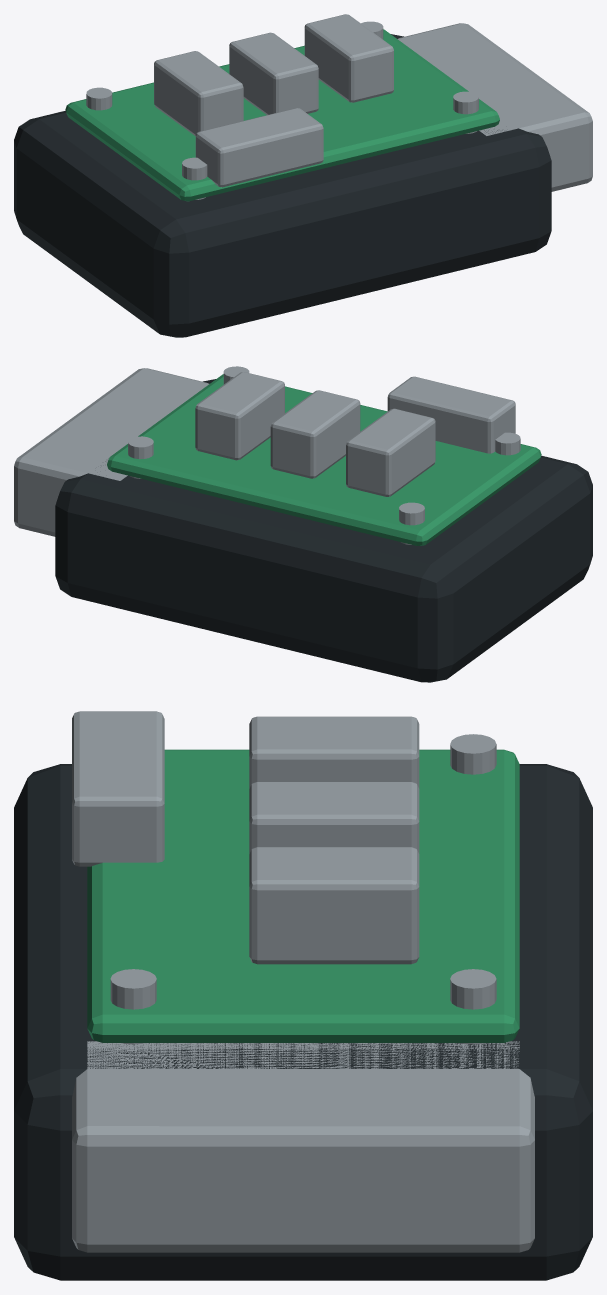
File: RaspberryPi_Blockout.fbx
The picture shows the model from 3 angles, top to bottom: view 1: azimuth 30°, elevation 25°; view 2: azimuth 150°, elevation 25°; view 3: azimuth 270°, elevation 25°; orthographic projection. The views are drawn at different scales.
Visible parts, largest first — view 1: RaspberryPi_Enclosure, RaspberryPi_Board, RaspberryPi, RaspberryPi_IO_Block, RaspberryPi_RibbonConnector; view 2: RaspberryPi_Enclosure, RaspberryPi_Board, RaspberryPi, RaspberryPi_IO_Block, RaspberryPi_RibbonConnector; view 3: RaspberryPi_IO_Block, RaspberryPi_Enclosure, RaspberryPi_Board, RaspberryPi, RaspberryPi_RibbonConnector.
Boxes of the visible parts, bbox=[...] form: RaspberryPi_Enclosure: bbox=[14, 34, 551, 337]; RaspberryPi_Board: bbox=[65, 29, 499, 201]; RaspberryPi: bbox=[86, 14, 478, 199]; RaspberryPi_IO_Block: bbox=[398, 23, 592, 191]; RaspberryPi_RibbonConnector: bbox=[195, 108, 323, 187]; RaspberryPi_Enclosure: bbox=[55, 379, 592, 682]; RaspberryPi_Board: bbox=[107, 374, 541, 545]; RaspberryPi: bbox=[128, 366, 520, 544]; RaspberryPi_IO_Block: bbox=[14, 368, 208, 536]; RaspberryPi_RibbonConnector: bbox=[387, 376, 515, 453]; RaspberryPi_IO_Block: bbox=[72, 1041, 534, 1252]; RaspberryPi_Enclosure: bbox=[14, 764, 592, 1280]; RaspberryPi_Board: bbox=[87, 749, 519, 1042]; RaspberryPi: bbox=[110, 716, 496, 1044]; RaspberryPi_RibbonConnector: bbox=[72, 711, 164, 866].
Bounding box in the file's own units: 0.1185 × 0.047 × 0.075.
